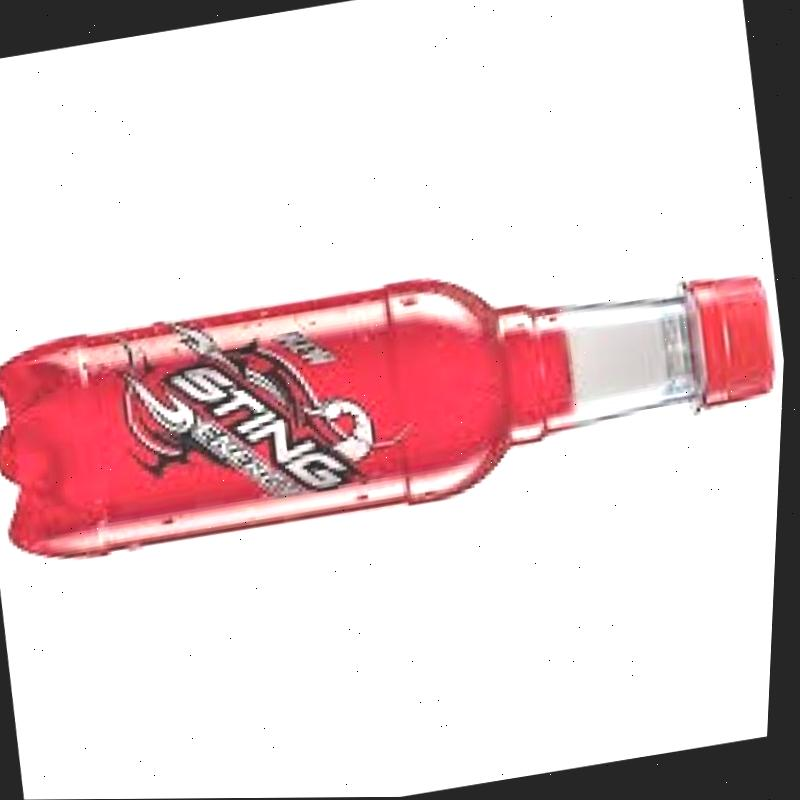botella: (0, 223, 792, 579)
